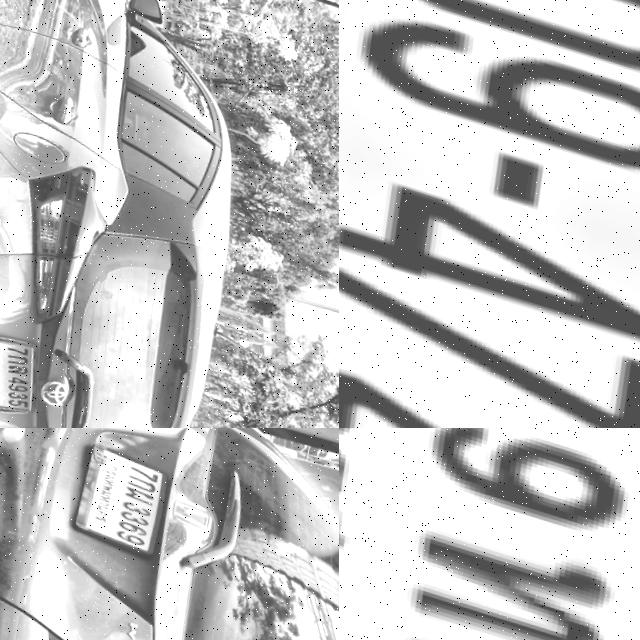license-plate: (339, 0, 640, 428), (339, 428, 640, 640), (67, 433, 184, 555), (0, 319, 44, 421)
